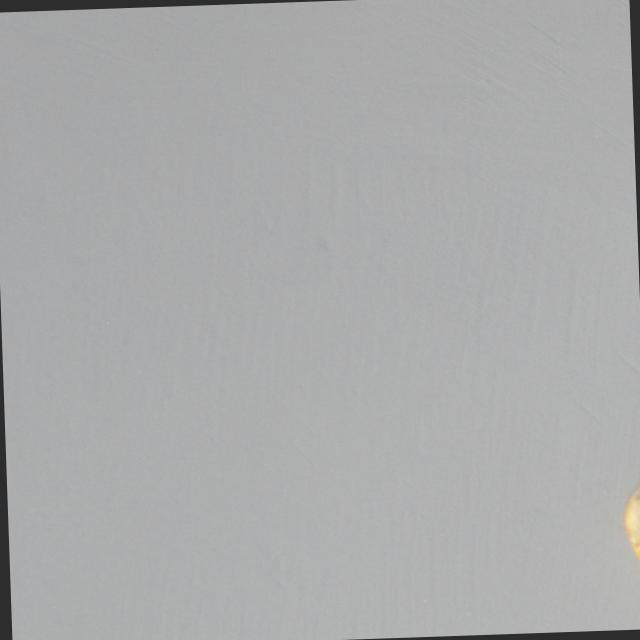punto_negro: (619, 469, 640, 589)
